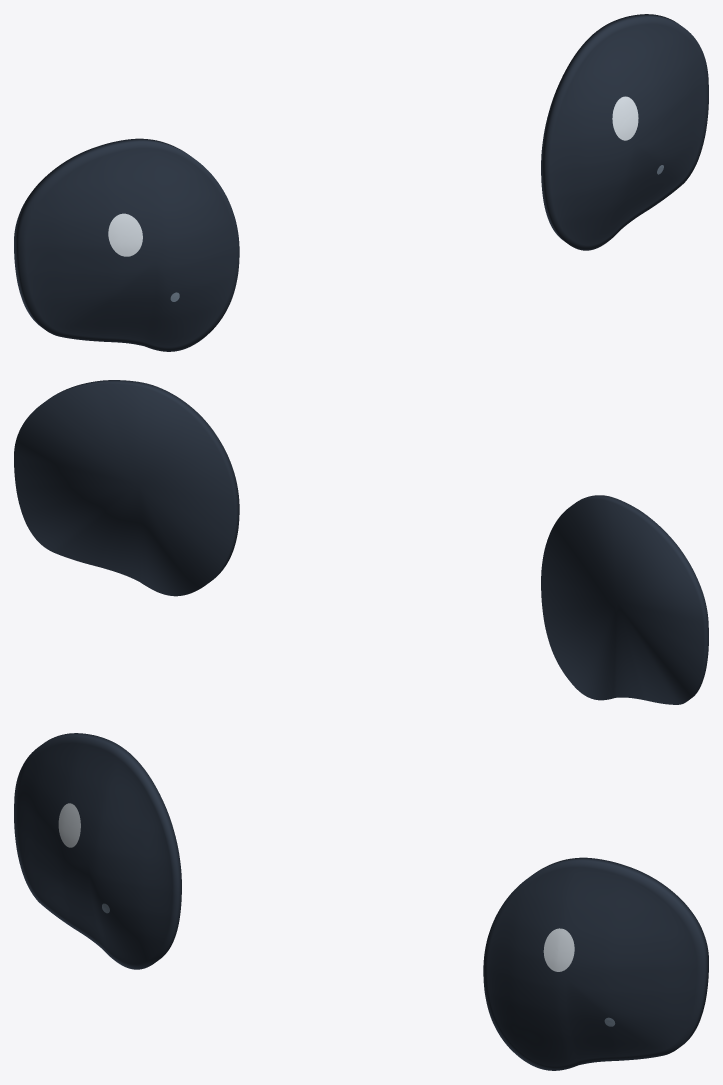
Rendered from Masculine-eyes-bean.glb.
3 views of the same model, one above another, from view 1: azimuth 30°, elevation 25°; view 2: azimuth 150°, elevation 25°; view 3: azimuth 330°, elevation 25° (orthographic).
Parts seen in each view (by area): view 1: 226 eyes / Eye / smoky charcoal181, 226 eyes / Eye highlight181; view 2: 226 eyes / Eye / smoky charcoal181; view 3: 226 eyes / Eye / smoky charcoal181, 226 eyes / Eye highlight181.
Part boxes in pixels (<box>): 226 eyes / Eye / smoky charcoal181: <box>14,14,708,351</box>; 226 eyes / Eye highlight181: <box>108,96,638,256</box>; 226 eyes / Eye / smoky charcoal181: <box>14,380,708,704</box>; 226 eyes / Eye / smoky charcoal181: <box>14,733,708,1070</box>; 226 eyes / Eye highlight181: <box>58,803,574,971</box>.
Size of the model in its own units: 0.4182 by 0.1214 by 0.041.
